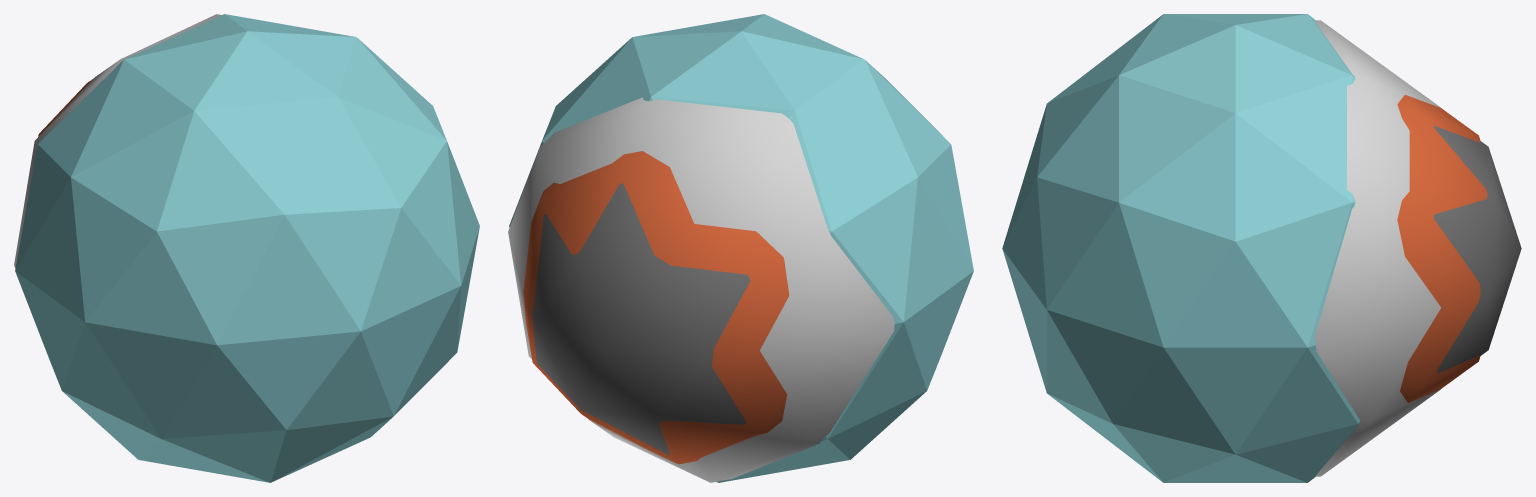
Rendered from Eye.fbx.
The picture shows the model from 3 angles, left to right: view 1: azimuth 30°, elevation 25°; view 2: azimuth 150°, elevation 25°; view 3: azimuth 270°, elevation 25°; orthographic projection. The views are drawn at different scales.
Parts seen in each view (by area): view 1: Icosphere; view 2: Icosphere; view 3: Icosphere.
Boxes of the visible parts, x1,y1,x2,y2 form: Icosphere: [14, 14, 479, 482]; Icosphere: [508, 14, 973, 482]; Icosphere: [1002, 14, 1521, 482].
Bounding box in the file's own units: 1.95 × 2.06 × 2.16.
